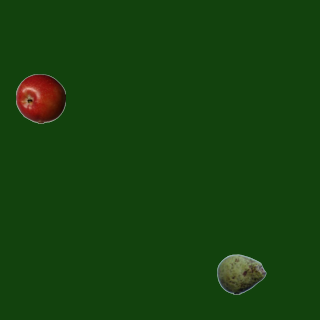Apple Braeburn: (15, 73, 65, 123)
Pear Stone: (216, 249, 266, 299)
